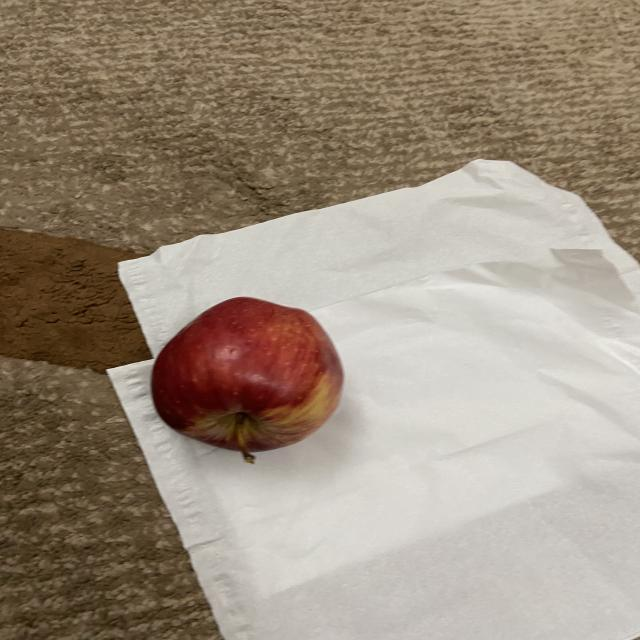apple: (146, 294, 348, 468)
